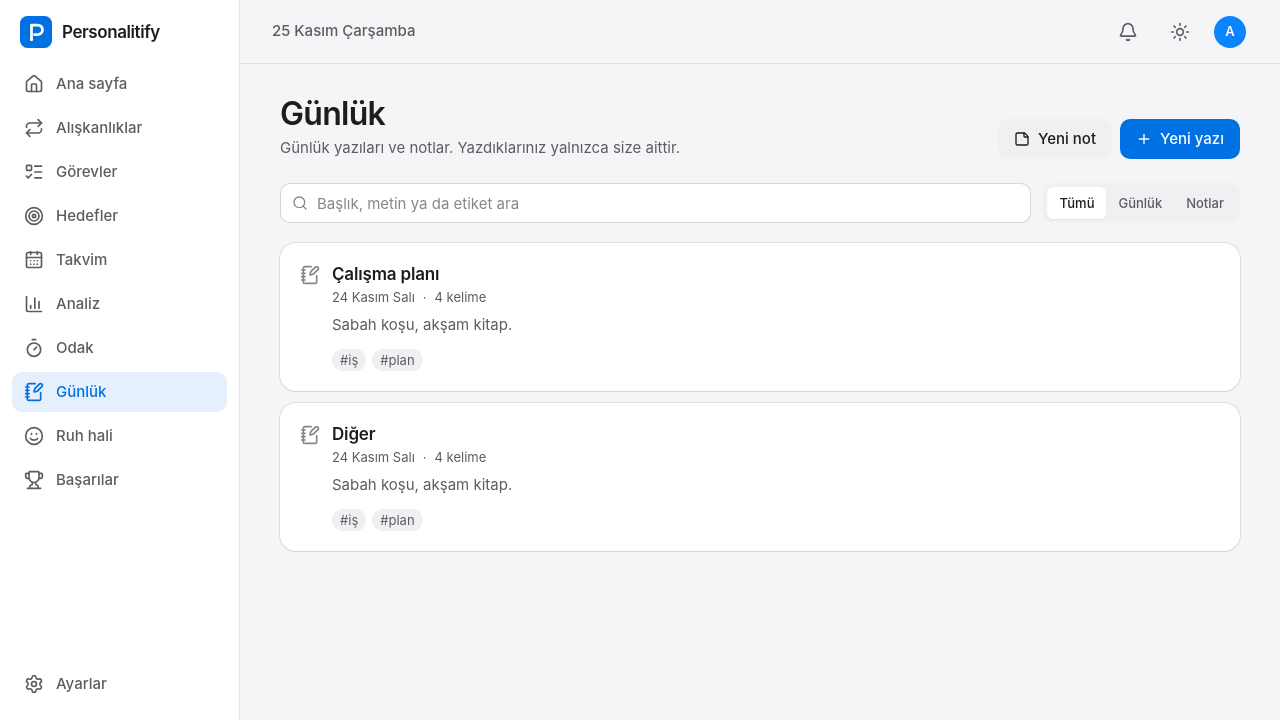
Test: journal › searches as you type and explains empty results
Check: the link "Diğer" is shown, box top-left (332, 424), bottom-right (375, 444)
Type "koşu" into the search field named "Yazılarda ara" at (656, 203), box top-left (280, 183), bottom-right (1031, 223)
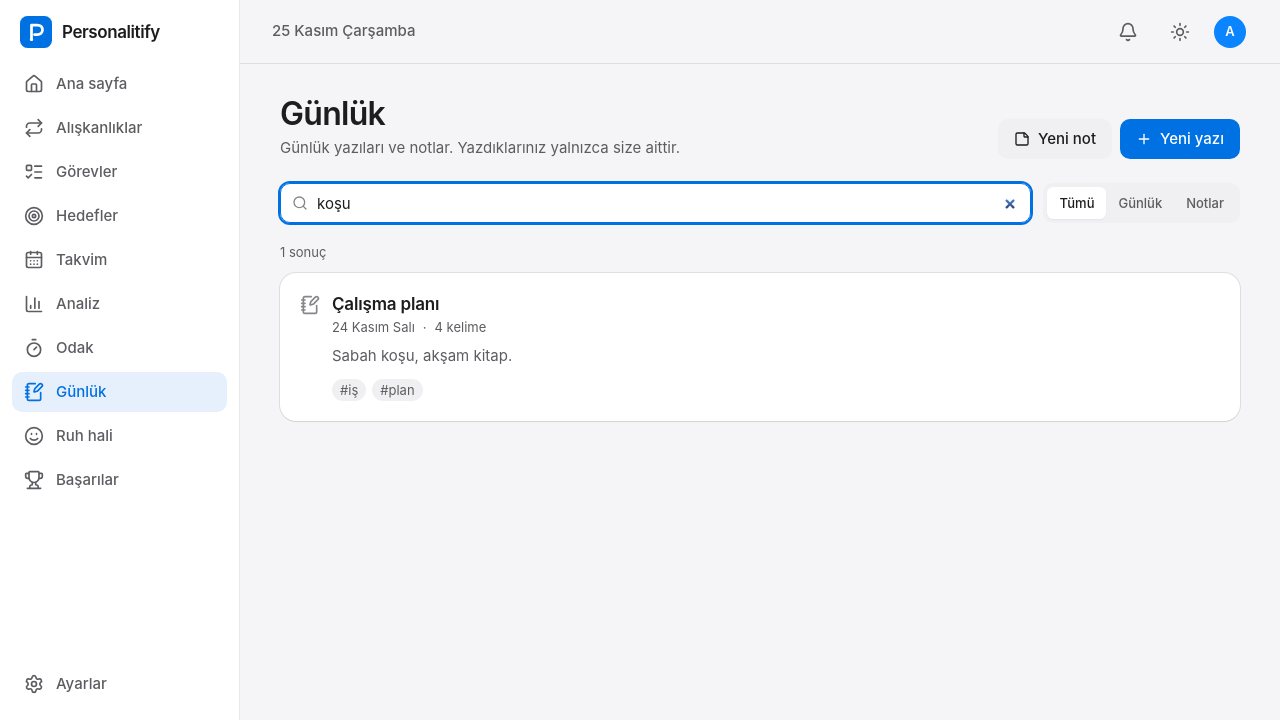
Check: the text "1 sonuç" is shown, box top-left (280, 244), bottom-right (326, 260)
Check: the link "Diğer" is gone
Replace the text in the search field named "Yazılarda ara" with "yok" at (656, 203), box top-left (280, 183), bottom-right (1031, 223)
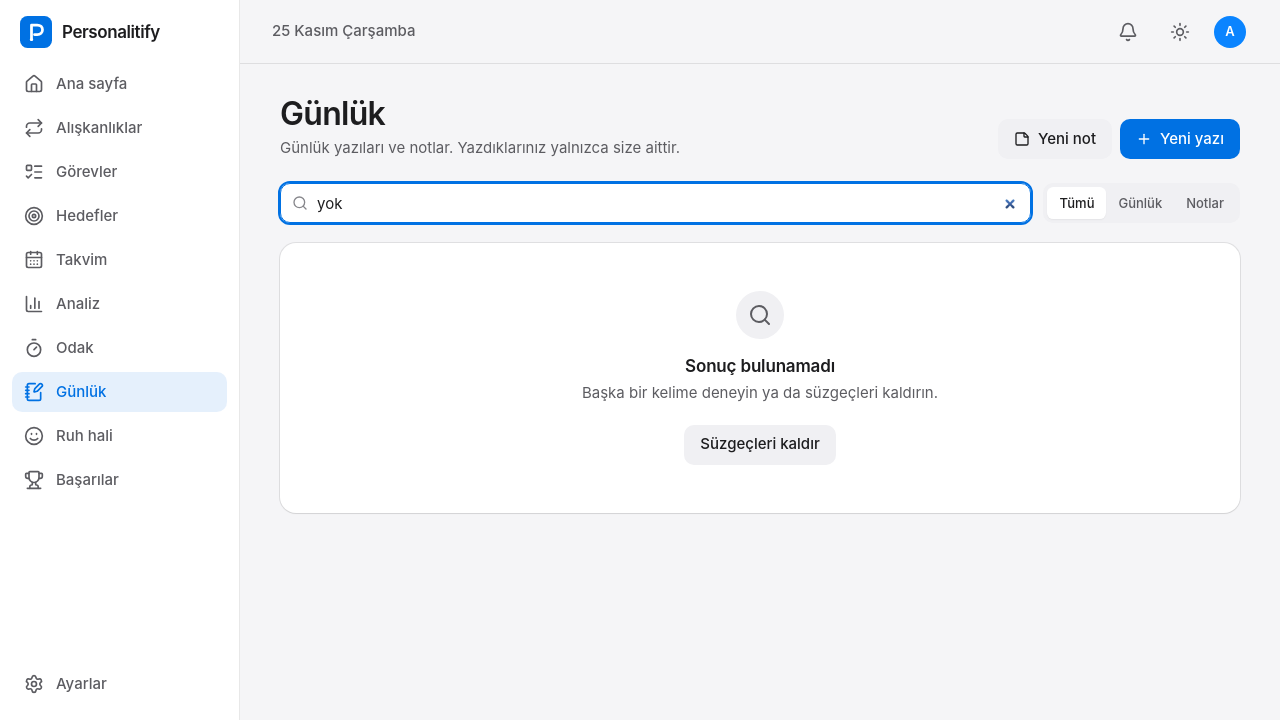
Check: the heading "Sonuç bulunamadı" is shown, box top-left (685, 355), bottom-right (835, 378)
Click the button "Süzgeçleri kaldır" at (760, 445), box top-left (684, 425), bottom-right (836, 465)
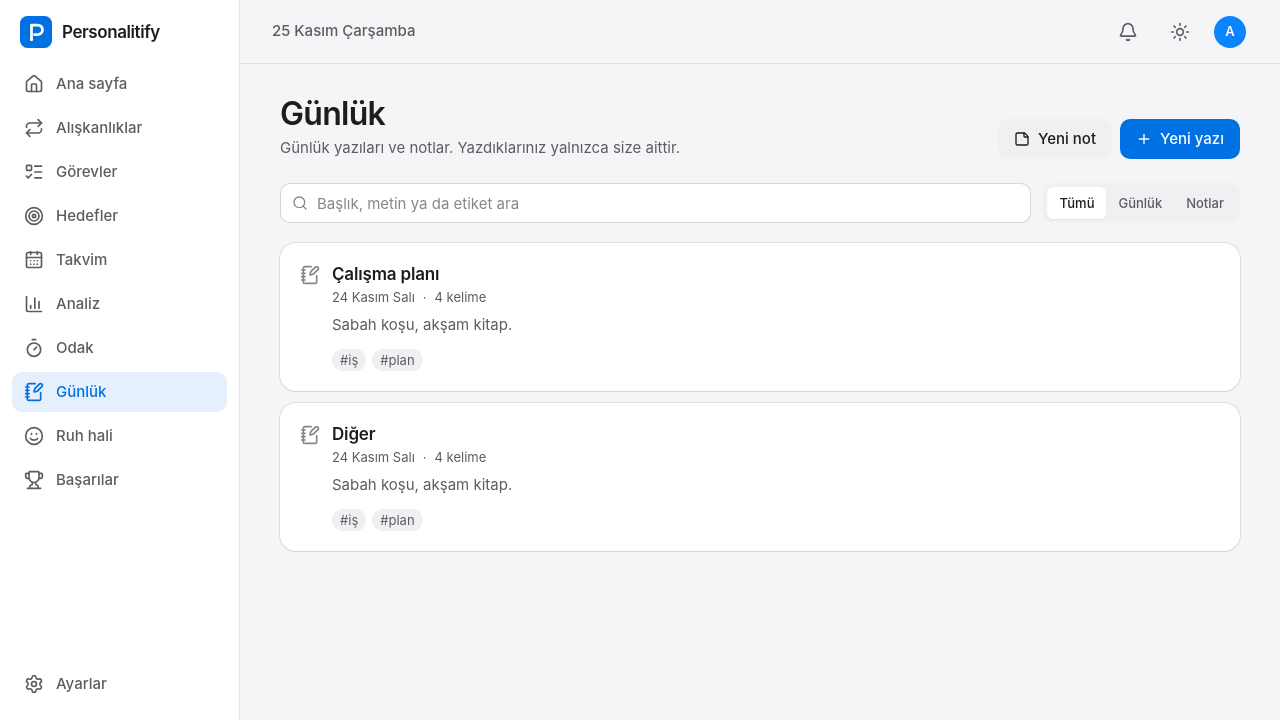
Check: the link "Diğer" is shown, box top-left (332, 424), bottom-right (375, 444)
